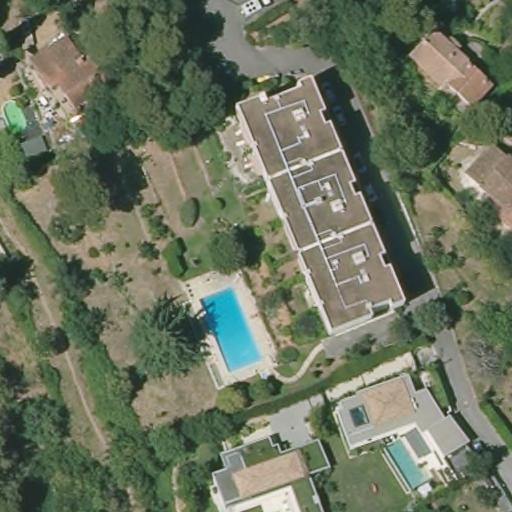pool: (198, 281, 266, 374), (383, 430, 430, 492), (1, 93, 36, 135)
